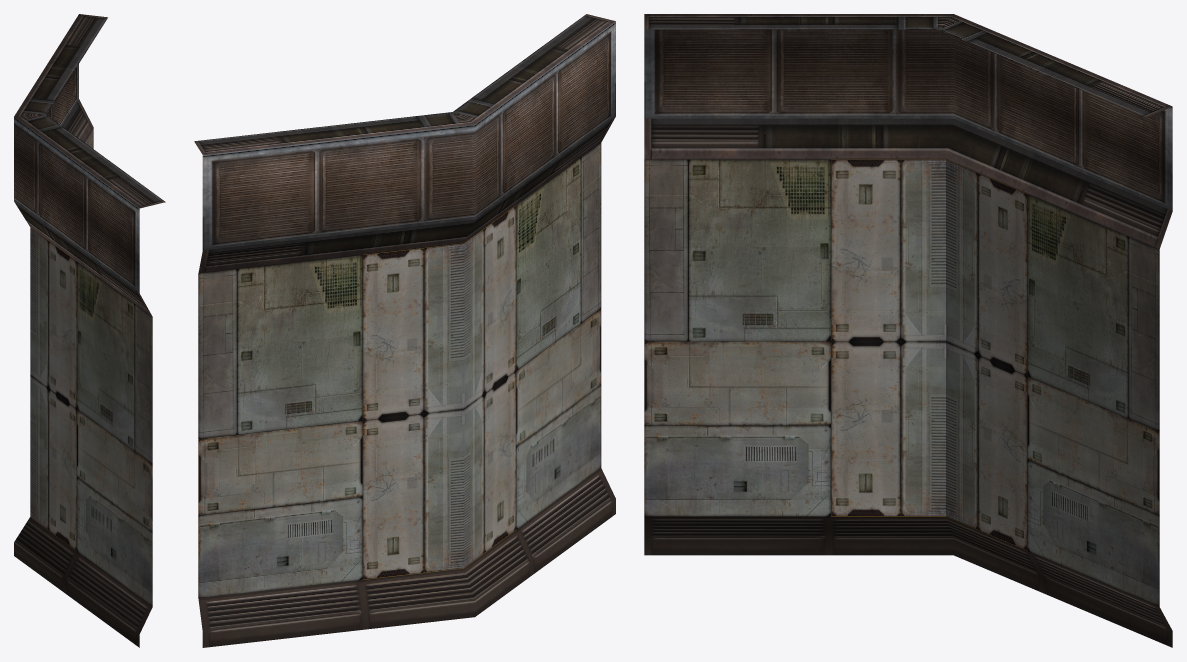
Rendered from Wall_High_new11.fbx.
3 renders of one model, left to right at view 1: azimuth 30°, elevation 25°; view 2: azimuth 150°, elevation 25°; view 3: azimuth 270°, elevation 25°, orthographic. The views are drawn at different scales.
Parts seen in each view (by area): view 1: Wall_High_new11; view 2: Wall_High_new11; view 3: Wall_High_new11.
Boxes of the visible parts, x1,y1,x2,y2 form: Wall_High_new11: [14, 14, 165, 647]; Wall_High_new11: [194, 14, 615, 647]; Wall_High_new11: [644, 14, 1172, 647].
Size of the model in its own units: 164 by 400 by 354.
